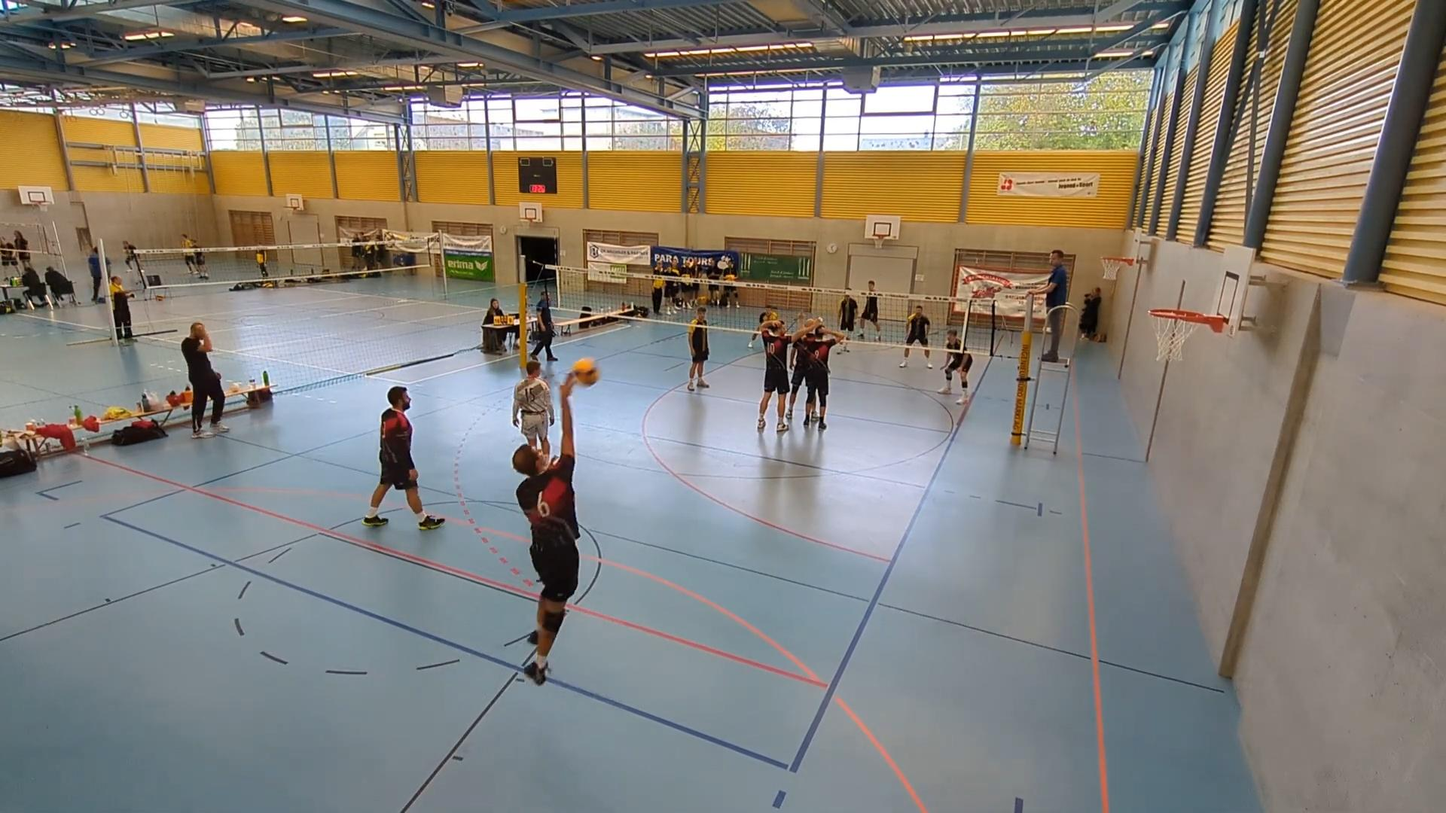Player: (363, 386, 444, 530), (793, 318, 845, 430), (512, 359, 554, 458), (758, 318, 791, 432), (938, 328, 972, 404), (786, 313, 809, 421), (899, 305, 932, 367), (687, 306, 709, 391), (858, 281, 880, 340), (748, 305, 778, 348), (840, 346, 848, 352)
Serve: (509, 366, 585, 688)
ball: (565, 360, 599, 385)
